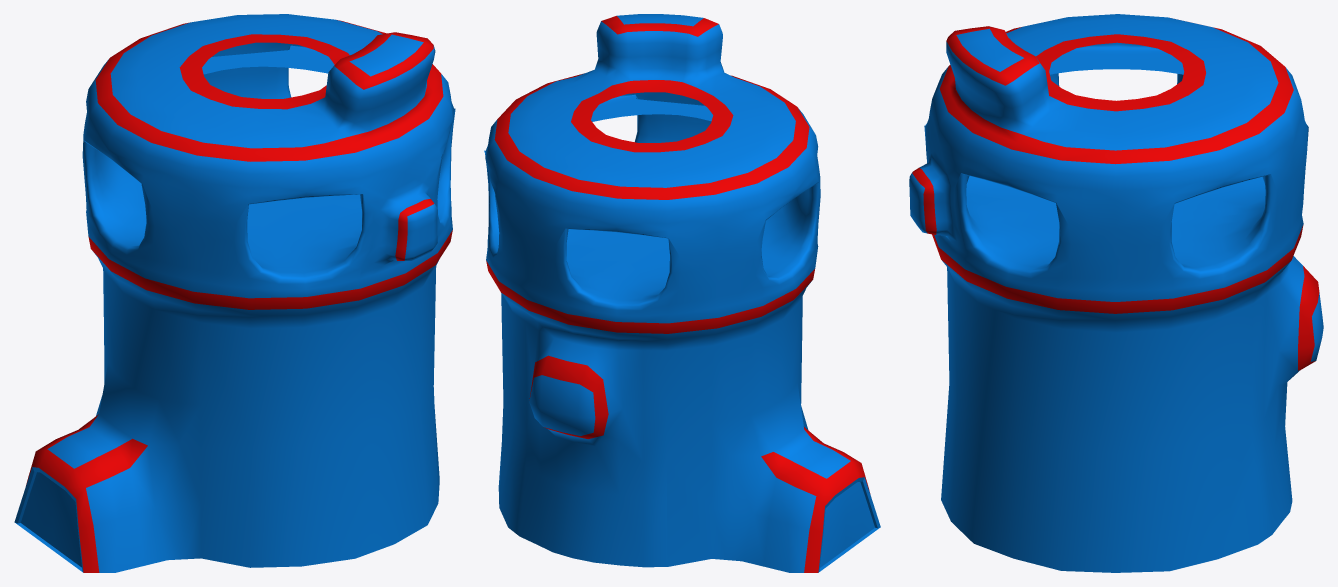
File: MainTower.fbx
The picture shows the model from 3 angles, left to right: view 1: azimuth 30°, elevation 25°; view 2: azimuth 150°, elevation 25°; view 3: azimuth 270°, elevation 25°; orthographic projection. The views are drawn at different scales.
Parts seen in each view (by area): view 1: pCylinder6; view 2: pCylinder6; view 3: pCylinder6.
Boxes of the visible parts, x1,y1,x2,y2 form: pCylinder6: (14, 14, 455, 572); pCylinder6: (484, 14, 880, 572); pCylinder6: (909, 14, 1323, 572).
Size of the model in its own units: 225 by 270 by 211.
